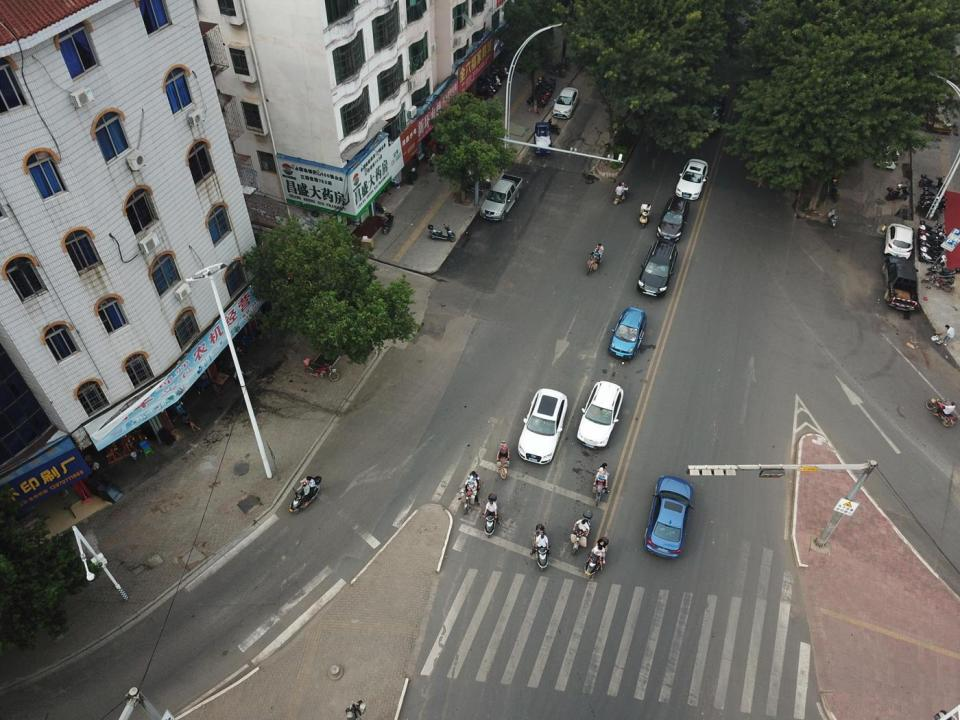car: (644, 475, 694, 559), (518, 388, 567, 464), (576, 380, 625, 450), (637, 242, 678, 298), (609, 307, 648, 358), (656, 195, 689, 242), (676, 158, 708, 200), (883, 222, 915, 261), (554, 86, 580, 120), (876, 137, 900, 170)
truck: (881, 256, 918, 314), (480, 173, 523, 221)
